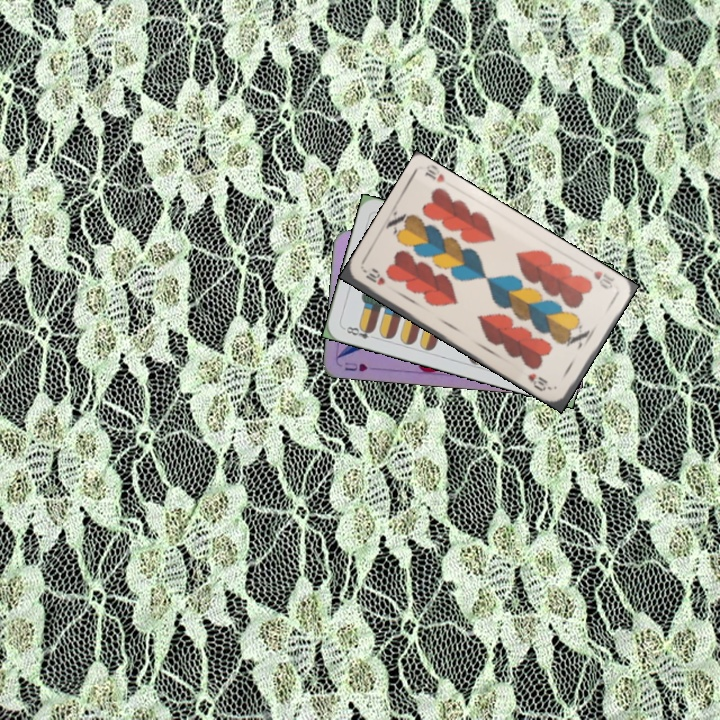E8: (340, 322, 379, 342)
H10: (589, 267, 617, 292), (360, 266, 387, 288)
HU: (341, 358, 370, 374)
